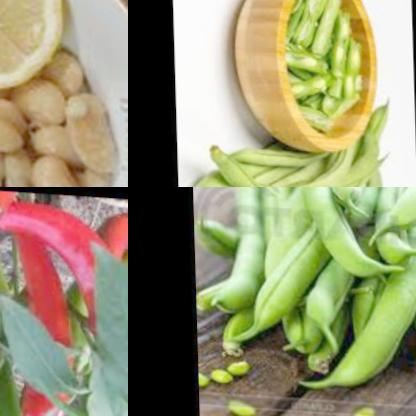beans: (209, 187, 416, 394), (180, 116, 401, 187), (279, 0, 378, 133), (0, 65, 102, 187), (197, 350, 252, 396), (221, 390, 257, 416), (347, 394, 377, 416)
hot pepper: (0, 190, 128, 350), (11, 223, 81, 416), (0, 297, 34, 416), (85, 203, 128, 289), (94, 240, 128, 293), (0, 188, 12, 325)
